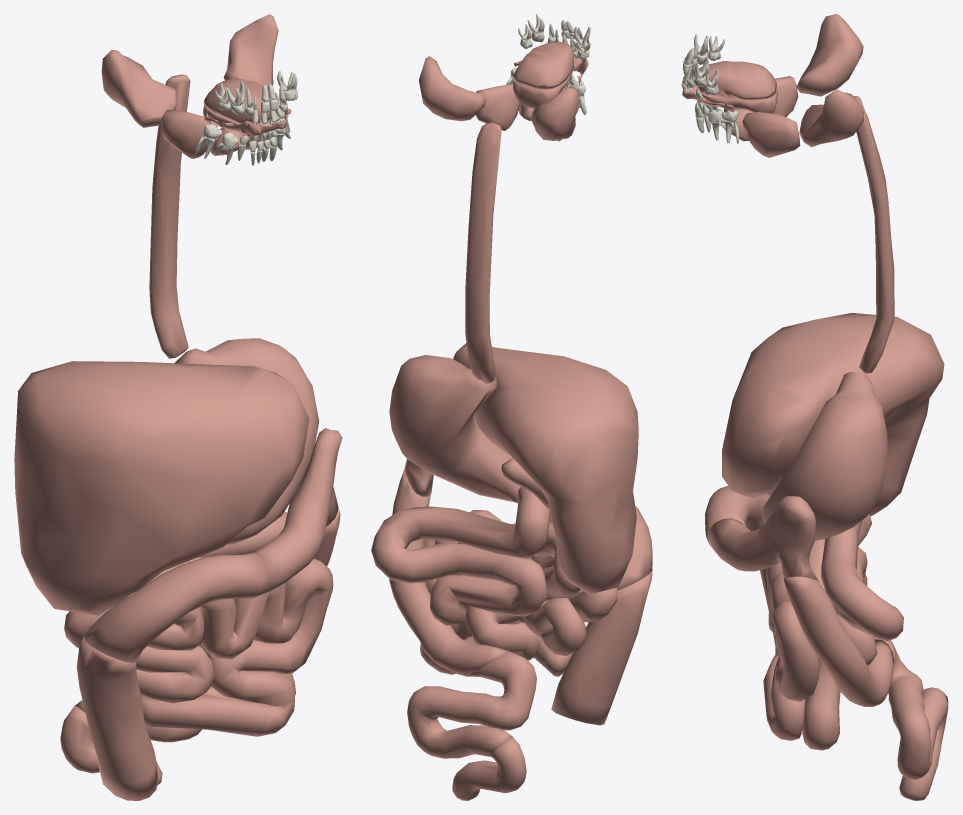
Rendered from pediatric_infant_male.digestive.LOD1.glb.
3 renders of one model, left to right at view 1: azimuth 30°, elevation 25°; view 2: azimuth 150°, elevation 25°; view 3: azimuth 270°, elevation 25°, orthographic. The views are drawn at different scales.
Parts seen in each view (by area): view 1: PEDIATRIC.INFANT.MALE.DIGESTIVE.LIVER, PEDIATRIC.INFANT.MALE.DIGESTIVE.SMALL_INTESTINE_WALL, PEDIATRIC.INFANT.MALE.DIGESTIVE.TRANSVERSE_COLON_WALL.R, PEDIATRIC.INFANT.MALE.DIGESTIVE.ASCENDING_COLON_WALL, PEDIATRIC.INFANT.MALE.DIGESTIVE.OESOPHAGUS_WALL, PEDIATRIC.INFANT.MALE.DIGESTIVE.TRANSVERSE_COLON_WALL.L, PEDIATRIC.INFANT.MALE.DIGESTIVE.SALIVARY_GLANDS.R, PEDIATRIC.INFANT.MALE.DIGESTIVE.STOMACH_WALL, PEDIATRIC.INFANT.MALE.DIGESTIVE.SALIVARY_GLANDS.L, PEDIATRIC.INFANT.MALE.DIGESTIVE.DECIDUOUS_CEMENTUM, PEDIATRIC.INFANT.MALE.DIGESTIVE.RECTUM_WALL, PEDIATRIC.INFANT.MALE.DIGESTIVE.ORAL_MUCOSA_MOUTH_FLOOR (+4 smaller); view 2: PEDIATRIC.INFANT.MALE.DIGESTIVE.LIVER, PEDIATRIC.INFANT.MALE.DIGESTIVE.SMALL_INTESTINE_WALL, PEDIATRIC.INFANT.MALE.DIGESTIVE.STOMACH_WALL, PEDIATRIC.INFANT.MALE.DIGESTIVE.SIGMOID_COLON_WALL, PEDIATRIC.INFANT.MALE.DIGESTIVE.ASCENDING_COLON_WALL, PEDIATRIC.INFANT.MALE.DIGESTIVE.OESOPHAGUS_WALL, PEDIATRIC.INFANT.MALE.DIGESTIVE.DESCENDING_COLON_WALL, PEDIATRIC.INFANT.MALE.DIGESTIVE.SALIVARY_GLANDS.L, PEDIATRIC.INFANT.MALE.DIGESTIVE.RECTUM_WALL, PEDIATRIC.INFANT.MALE.DIGESTIVE.ORAL_MUCOSA_MOUTH_FLOOR, PEDIATRIC.INFANT.MALE.DIGESTIVE.SALIVARY_GLANDS.R, PEDIATRIC.INFANT.MALE.DIGESTIVE.TRANSVERSE_COLON_WALL.R (+5 smaller); view 3: PEDIATRIC.INFANT.MALE.DIGESTIVE.LIVER, PEDIATRIC.INFANT.MALE.DIGESTIVE.SMALL_INTESTINE_WALL, PEDIATRIC.INFANT.MALE.DIGESTIVE.STOMACH_WALL, PEDIATRIC.INFANT.MALE.DIGESTIVE.DESCENDING_COLON_WALL, PEDIATRIC.INFANT.MALE.DIGESTIVE.TRANSVERSE_COLON_WALL.L, PEDIATRIC.INFANT.MALE.DIGESTIVE.SALIVARY_GLANDS.L, PEDIATRIC.INFANT.MALE.DIGESTIVE.SIGMOID_COLON_WALL, PEDIATRIC.INFANT.MALE.DIGESTIVE.OESOPHAGUS_WALL, PEDIATRIC.INFANT.MALE.DIGESTIVE.SALIVARY_GLANDS.R, PEDIATRIC.INFANT.MALE.DIGESTIVE.ORAL_MUCOSA_MOUTH_FLOOR, PEDIATRIC.INFANT.MALE.DIGESTIVE.TRANSVERSE_COLON_WALL.R, PEDIATRIC.INFANT.MALE.DIGESTIVE.DECIDUOUS_CEMENTUM (+3 smaller).
Part boxes in pixels (x1=…): PEDIATRIC.INFANT.MALE.DIGESTIVE.LIVER: x1=14, y1=361, x2=309, y2=615; PEDIATRIC.INFANT.MALE.DIGESTIVE.SMALL_INTESTINE_WALL: x1=64, y1=511, x2=333, y2=736; PEDIATRIC.INFANT.MALE.DIGESTIVE.TRANSVERSE_COLON_WALL.R: x1=83, y1=552, x2=269, y2=662; PEDIATRIC.INFANT.MALE.DIGESTIVE.ASCENDING_COLON_WALL: x1=76, y1=638, x2=158, y2=800; PEDIATRIC.INFANT.MALE.DIGESTIVE.OESOPHAGUS_WALL: x1=149, y1=74, x2=190, y2=358; PEDIATRIC.INFANT.MALE.DIGESTIVE.TRANSVERSE_COLON_WALL.L: x1=253, y1=428, x2=342, y2=593; PEDIATRIC.INFANT.MALE.DIGESTIVE.SALIVARY_GLANDS.R: x1=101, y1=50, x2=243, y2=158; PEDIATRIC.INFANT.MALE.DIGESTIVE.STOMACH_WALL: x1=174, y1=338, x2=319, y2=544; PEDIATRIC.INFANT.MALE.DIGESTIVE.SALIVARY_GLANDS.L: x1=223, y1=14, x2=278, y2=149; PEDIATRIC.INFANT.MALE.DIGESTIVE.DECIDUOUS_CEMENTUM: x1=195, y1=71, x2=297, y2=164; PEDIATRIC.INFANT.MALE.DIGESTIVE.RECTUM_WALL: x1=60, y1=705, x2=162, y2=785; PEDIATRIC.INFANT.MALE.DIGESTIVE.ORAL_MUCOSA_MOUTH_FLOOR: x1=203, y1=77, x2=269, y2=123; PEDIATRIC.INFANT.MALE.DIGESTIVE.LIVER: x1=453, y1=343, x2=638, y2=594; PEDIATRIC.INFANT.MALE.DIGESTIVE.SMALL_INTESTINE_WALL: x1=371, y1=487, x2=617, y2=676; PEDIATRIC.INFANT.MALE.DIGESTIVE.STOMACH_WALL: x1=389, y1=355, x2=520, y2=502; PEDIATRIC.INFANT.MALE.DIGESTIVE.SIGMOID_COLON_WALL: x1=407, y1=650, x2=536, y2=758; PEDIATRIC.INFANT.MALE.DIGESTIVE.ASCENDING_COLON_WALL: x1=551, y1=569, x2=652, y2=725; PEDIATRIC.INFANT.MALE.DIGESTIVE.OESOPHAGUS_WALL: x1=465, y1=122, x2=501, y2=383; PEDIATRIC.INFANT.MALE.DIGESTIVE.DESCENDING_COLON_WALL: x1=389, y1=468, x2=507, y2=676; PEDIATRIC.INFANT.MALE.DIGESTIVE.SALIVARY_GLANDS.L: x1=419, y1=56, x2=534, y2=130; PEDIATRIC.INFANT.MALE.DIGESTIVE.RECTUM_WALL: x1=452, y1=737, x2=526, y2=800; PEDIATRIC.INFANT.MALE.DIGESTIVE.ORAL_MUCOSA_MOUTH_FLOOR: x1=513, y1=41, x2=573, y2=89; PEDIATRIC.INFANT.MALE.DIGESTIVE.SALIVARY_GLANDS.R: x1=531, y1=86, x2=578, y2=141; PEDIATRIC.INFANT.MALE.DIGESTIVE.TRANSVERSE_COLON_WALL.R: x1=617, y1=506, x2=652, y2=590; PEDIATRIC.INFANT.MALE.DIGESTIVE.LIVER: x1=722, y1=313, x2=944, y2=516; PEDIATRIC.INFANT.MALE.DIGESTIVE.SMALL_INTESTINE_WALL: x1=763, y1=514, x2=903, y2=750; PEDIATRIC.INFANT.MALE.DIGESTIVE.STOMACH_WALL: x1=763, y1=371, x2=888, y2=540; PEDIATRIC.INFANT.MALE.DIGESTIVE.DESCENDING_COLON_WALL: x1=783, y1=576, x2=894, y2=706; PEDIATRIC.INFANT.MALE.DIGESTIVE.TRANSVERSE_COLON_WALL.L: x1=707, y1=496, x2=818, y2=581; PEDIATRIC.INFANT.MALE.DIGESTIVE.SALIVARY_GLANDS.L: x1=730, y1=89, x2=863, y2=157; PEDIATRIC.INFANT.MALE.DIGESTIVE.SIGMOID_COLON_WALL: x1=874, y1=637, x2=948, y2=779; PEDIATRIC.INFANT.MALE.DIGESTIVE.OESOPHAGUS_WALL: x1=854, y1=96, x2=894, y2=373; PEDIATRIC.INFANT.MALE.DIGESTIVE.SALIVARY_GLANDS.R: x1=723, y1=14, x2=863, y2=116; PEDIATRIC.INFANT.MALE.DIGESTIVE.ORAL_MUCOSA_MOUTH_FLOOR: x1=695, y1=61, x2=776, y2=100; PEDIATRIC.INFANT.MALE.DIGESTIVE.TRANSVERSE_COLON_WALL.R: x1=705, y1=486, x2=768, y2=542; PEDIATRIC.INFANT.MALE.DIGESTIVE.DECIDUOUS_CEMENTUM: x1=682, y1=34, x2=739, y2=143.
Size of the model in its own units: 0.1371 by 0.3662 by 0.1173.
